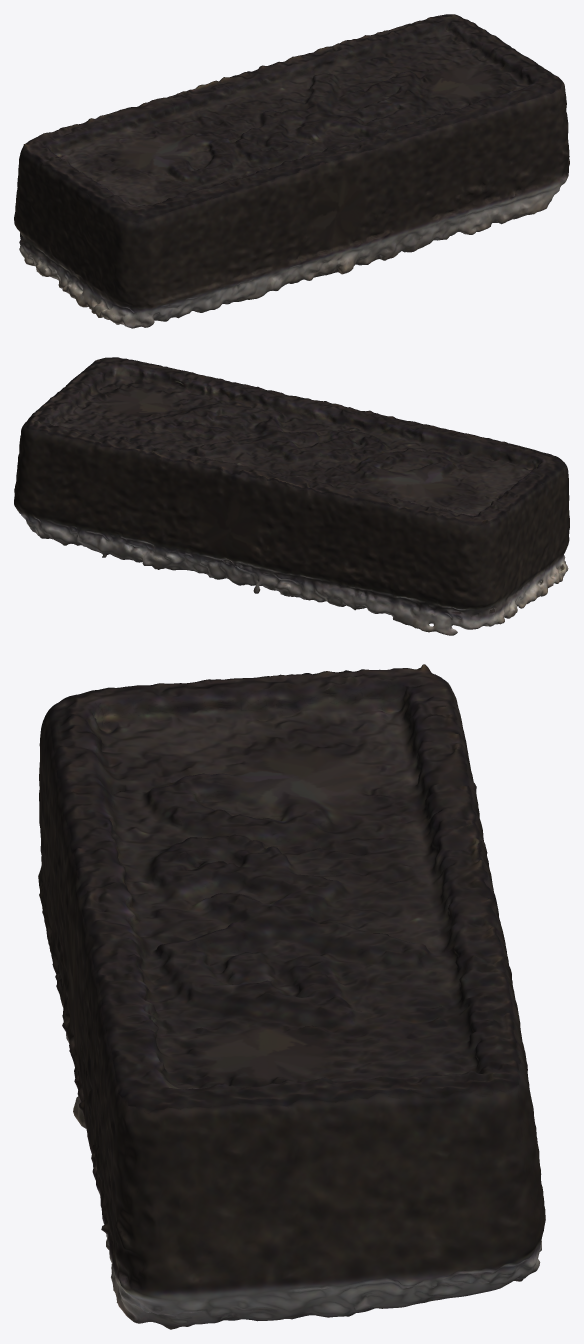
File: Yuta_Eraser_Mesh_modified.obj
3 views of the same model, one above another, from view 1: azimuth 30°, elevation 25°; view 2: azimuth 150°, elevation 25°; view 3: azimuth 270°, elevation 25° (orthographic). The views are drawn at different scales.
Size of the model in its own units: 0.1297 by 0.0337 by 0.0604.
Materials: 1 (1 with a texture image).
